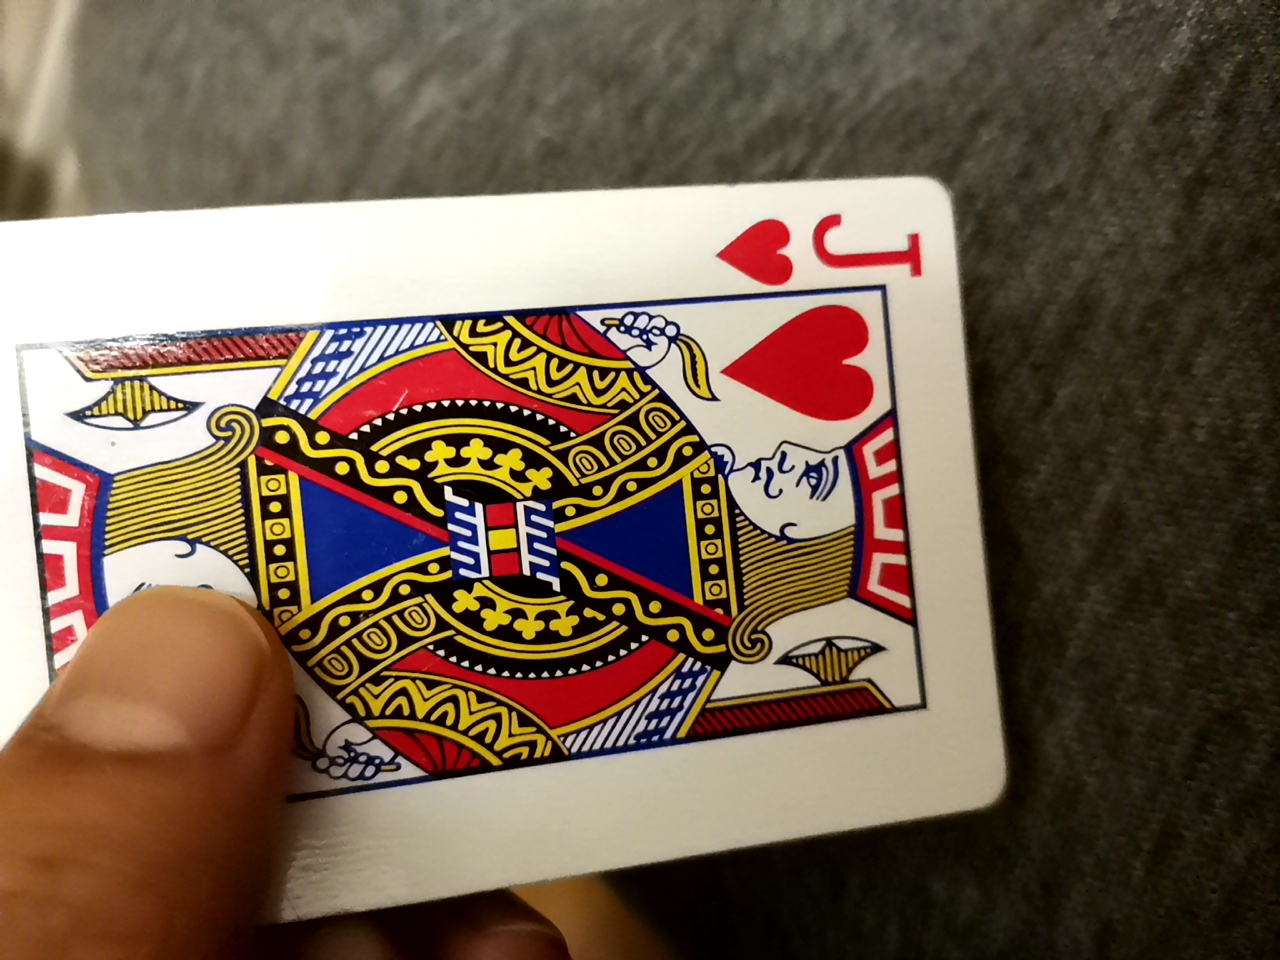hx j: (5, 173, 1014, 913)
